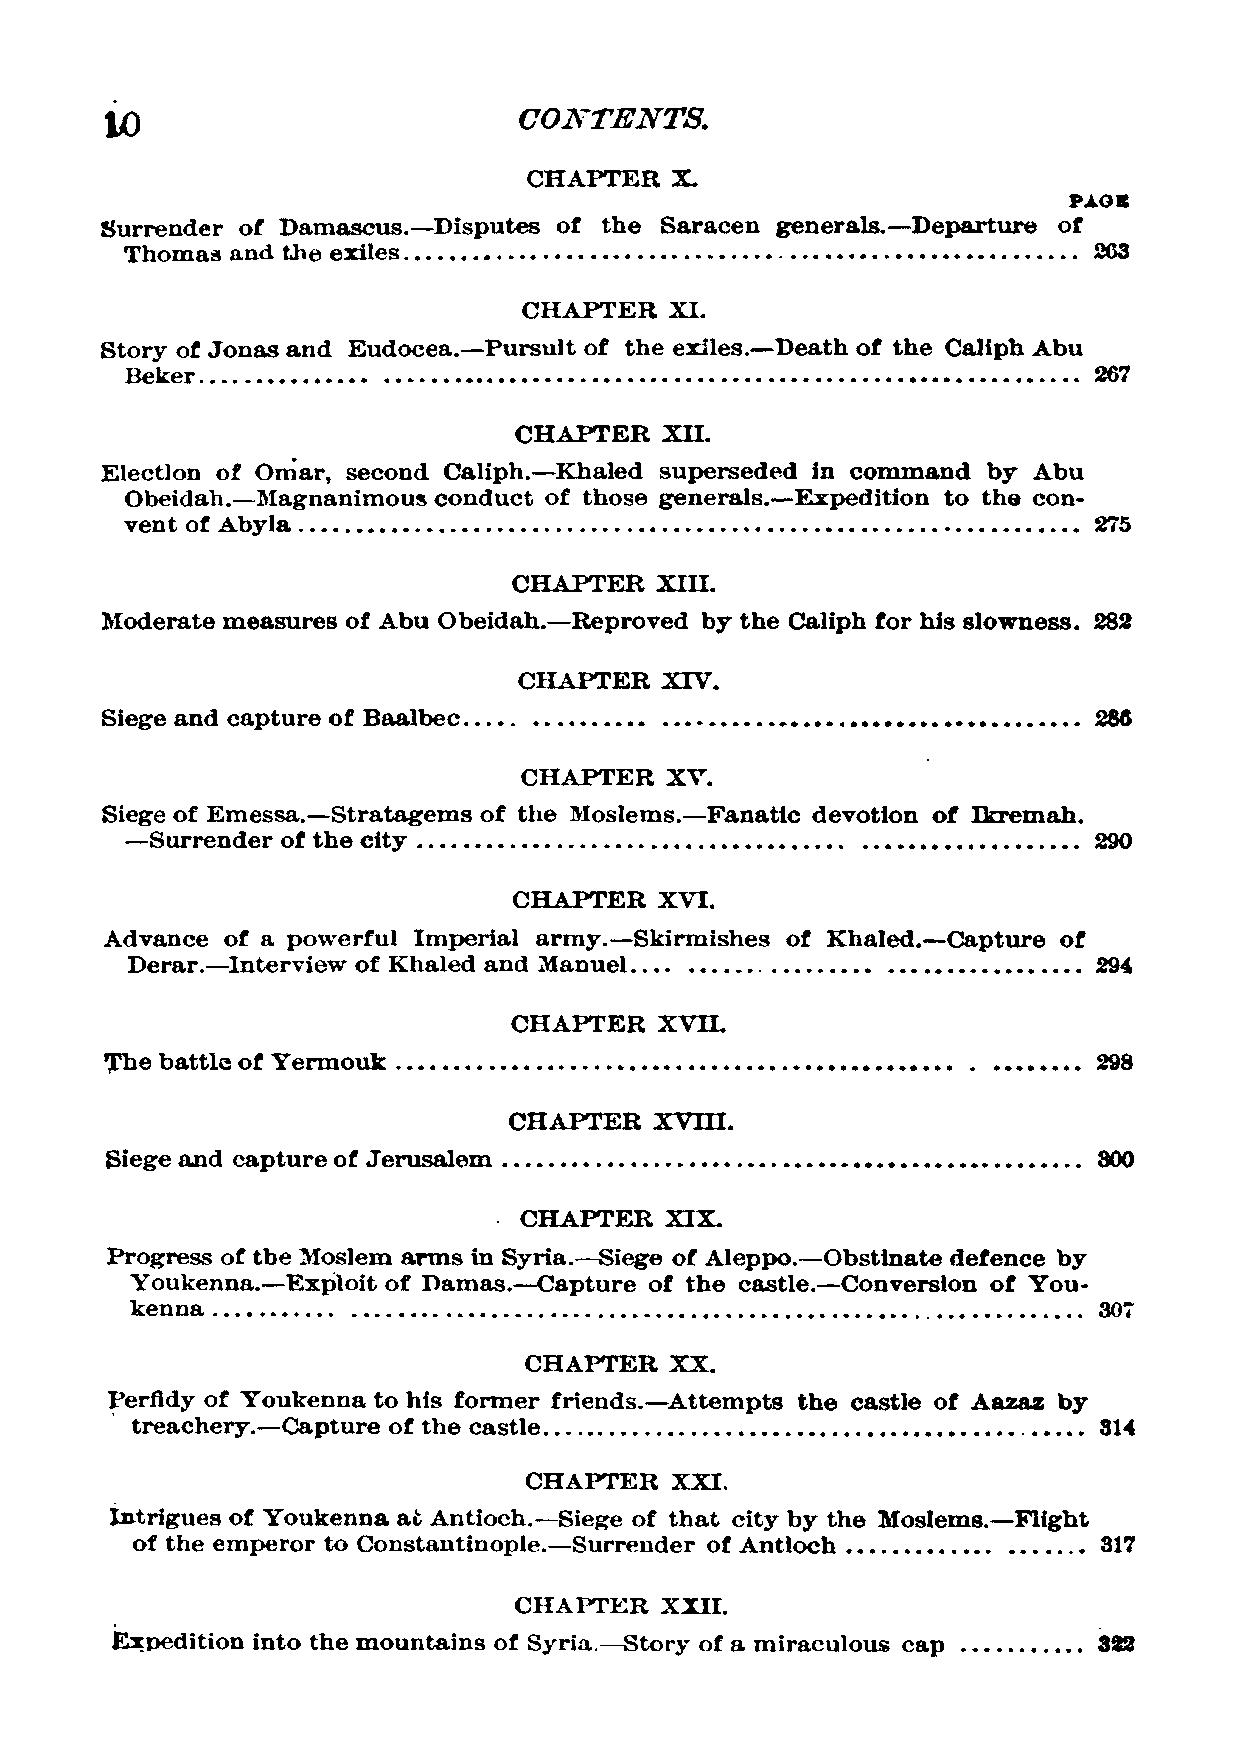TOC_chapter: (107, 1241, 1088, 1323), (97, 458, 1084, 534), (105, 1500, 1092, 1559), (102, 1385, 1088, 1443), (93, 798, 1084, 852), (101, 212, 1088, 266), (93, 333, 1079, 382), (102, 926, 1088, 974), (111, 1621, 953, 1665), (89, 607, 1082, 640), (98, 702, 468, 745), (98, 1143, 493, 1180), (97, 1045, 391, 1083), (514, 658, 731, 697), (505, 1008, 733, 1040), (513, 1588, 729, 1621), (514, 756, 717, 790), (510, 568, 721, 601), (505, 1106, 742, 1135), (510, 882, 718, 914), (514, 416, 713, 446), (519, 293, 718, 321), (521, 1468, 733, 1494), (514, 1206, 723, 1232), (523, 1349, 719, 1376), (521, 164, 699, 191)
TOC_pagenumber: (1088, 699, 1141, 731), (1088, 603, 1134, 637), (1088, 354, 1133, 388), (1091, 1628, 1139, 1657), (1095, 1143, 1139, 1172), (1092, 1047, 1138, 1074), (1091, 827, 1137, 852), (1095, 1413, 1138, 1440), (1095, 1296, 1137, 1323), (1091, 951, 1137, 976), (1088, 509, 1130, 534), (1100, 1533, 1138, 1559), (1092, 238, 1131, 259)
chapter: (505, 93, 714, 142)
